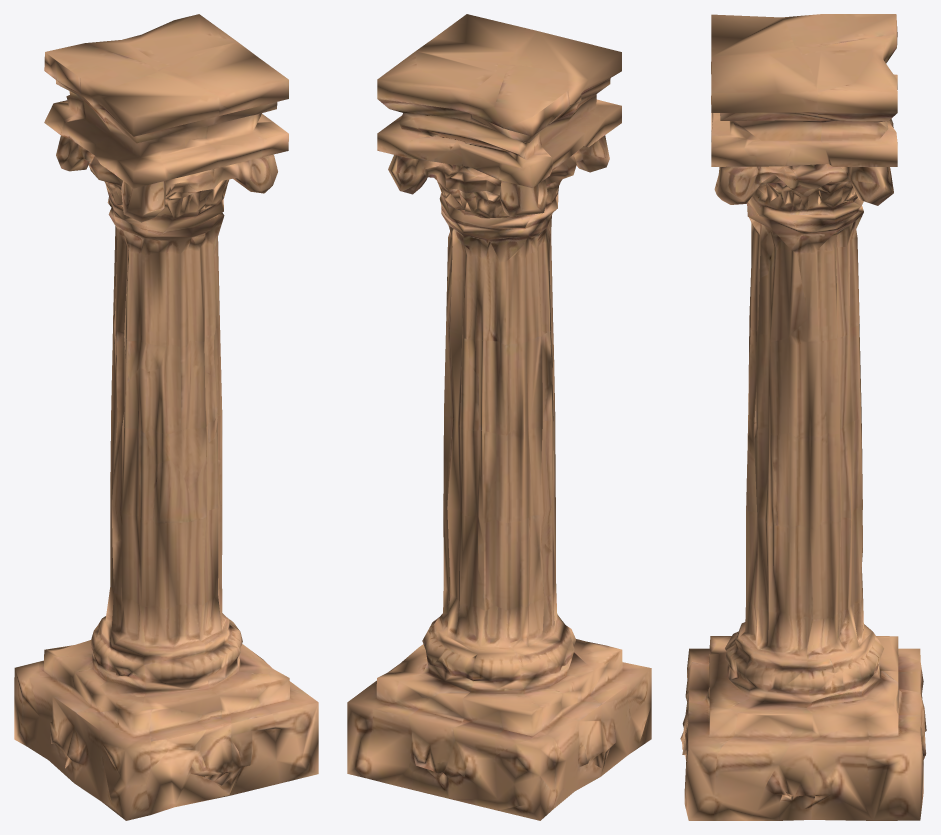
Rendered from pillar.glb.
3 views of the same model, side by side, from view 1: azimuth 30°, elevation 25°; view 2: azimuth 150°, elevation 25°; view 3: azimuth 270°, elevation 25° (orthographic). The views are drawn at different scales.
Size of the model in its own units: 0.593 by 1.9 by 0.5897.
1 material, 1 textured.
